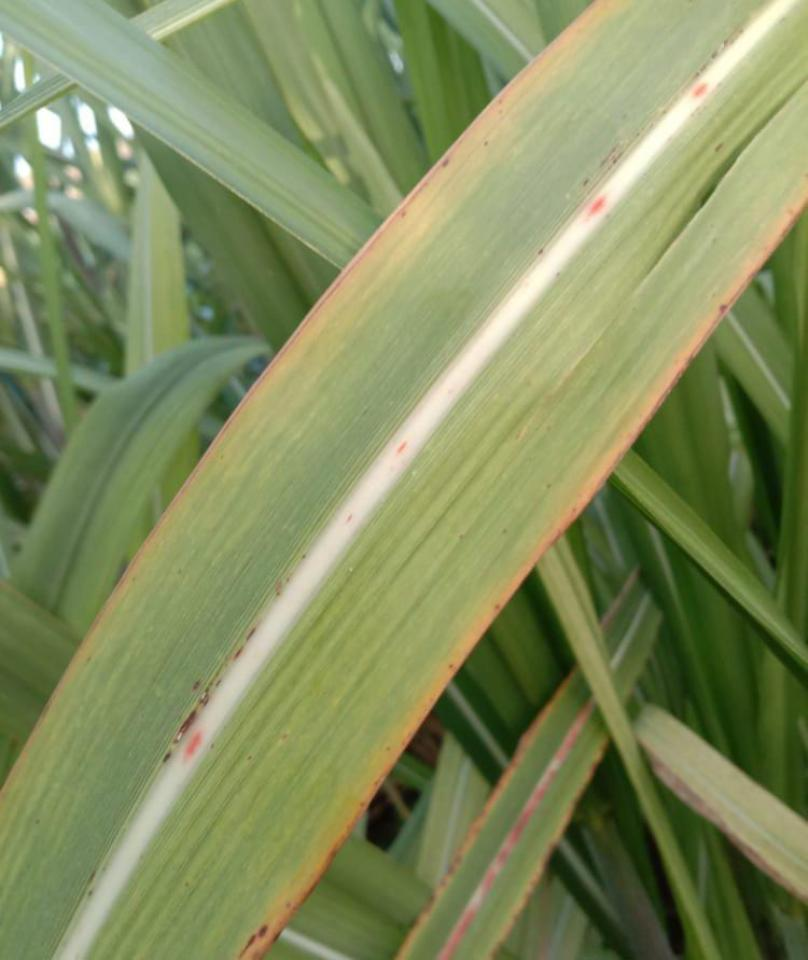RedRot: (483, 703, 592, 894), (435, 907, 475, 959), (183, 731, 202, 761), (588, 196, 606, 214), (694, 83, 708, 98), (396, 440, 407, 457)
Rust: (158, 678, 213, 765), (598, 143, 624, 170), (230, 644, 245, 664), (244, 626, 259, 644), (713, 140, 726, 154), (215, 678, 225, 691), (581, 176, 590, 188)
Yellow: (0, 0, 621, 800), (231, 170, 807, 959), (396, 670, 581, 959), (476, 724, 611, 959)
